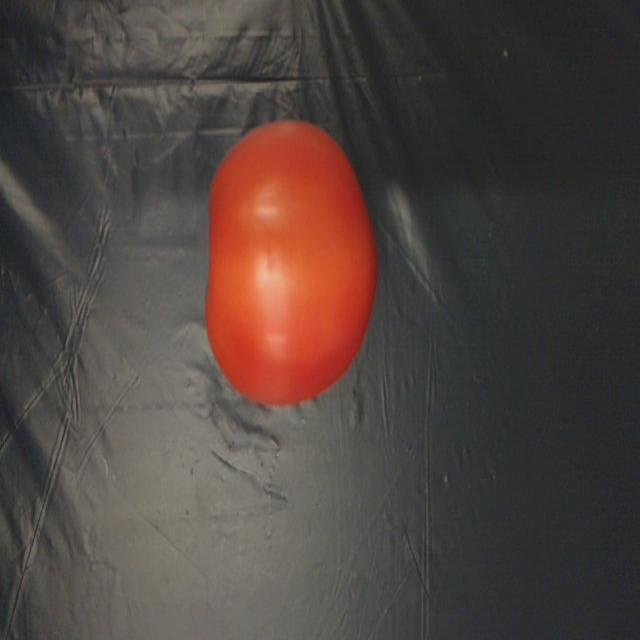sari: (182, 120, 382, 404)
